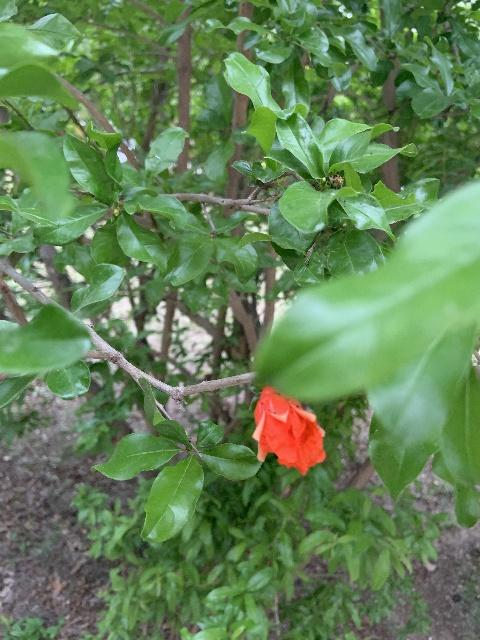flower: (252, 385, 326, 475)
